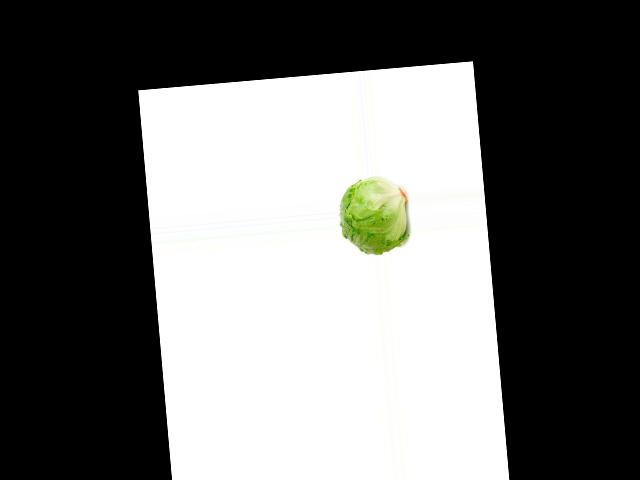lettuce: (336, 178, 409, 257)
